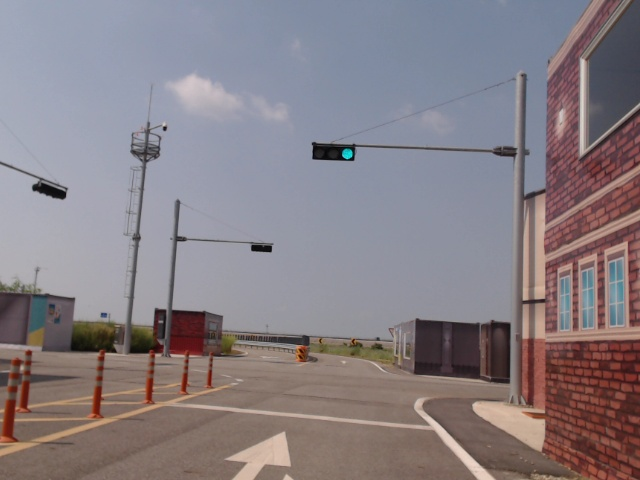green_3: (312, 145, 355, 161)
